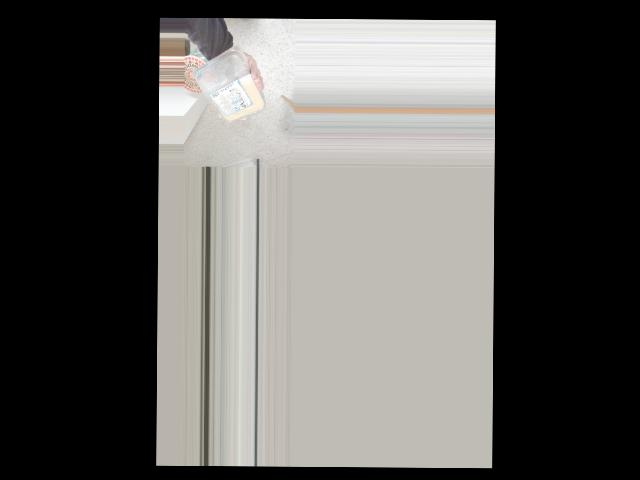cheese: (187, 63, 261, 124)
